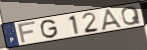1: (68, 14, 81, 36)
2: (81, 12, 100, 34)
A: (100, 8, 125, 32)
F: (17, 20, 38, 45)
G: (40, 18, 60, 39)
Q: (121, 6, 143, 27)
